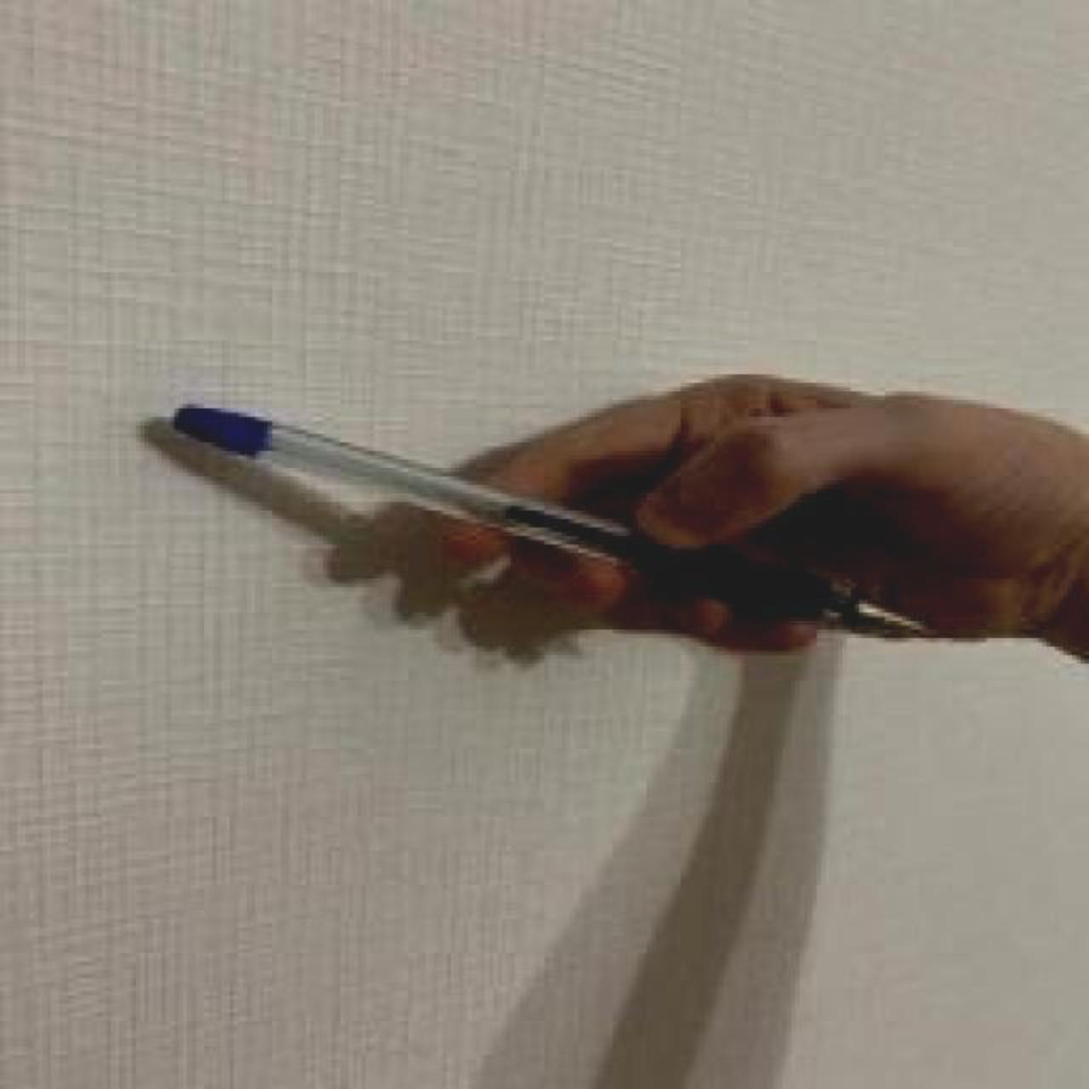pen: (165, 400, 931, 643)
